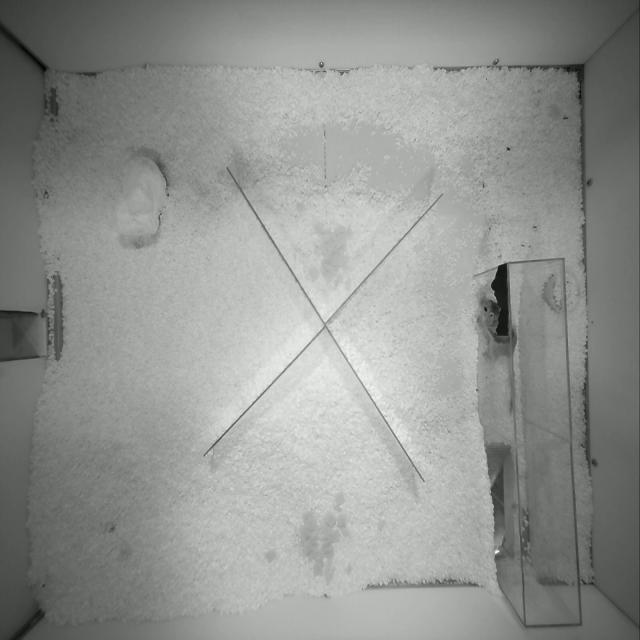adult_front: (478, 298, 517, 374), (510, 375, 514, 411)
